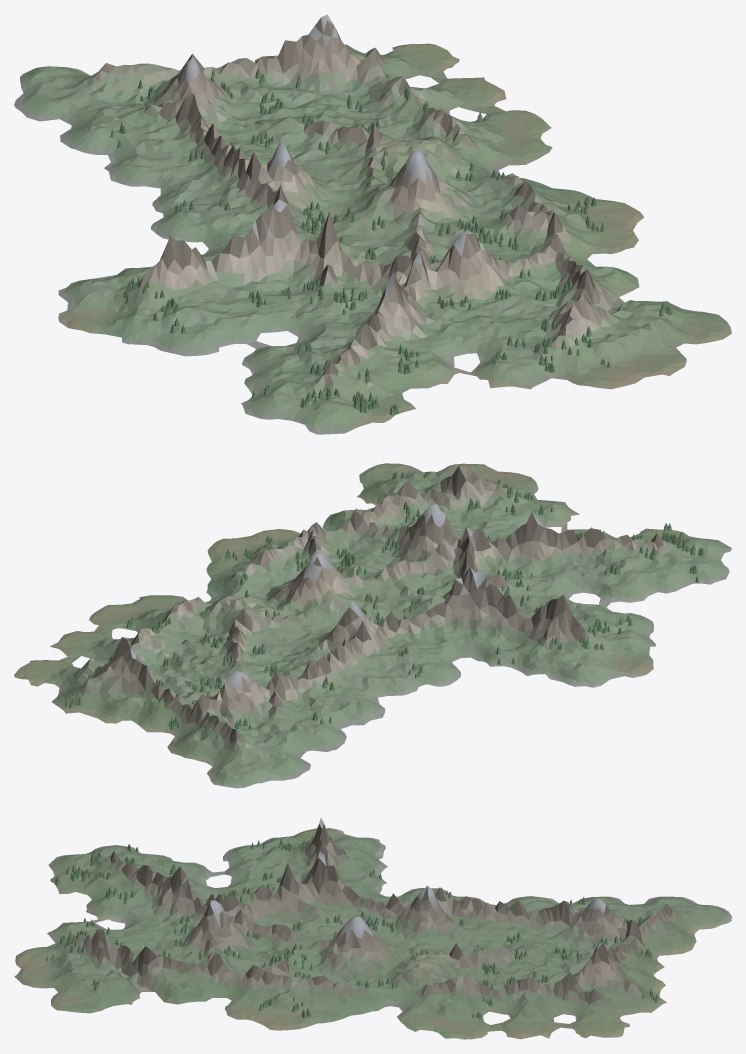
The model's file is range_qingzang_rim.glb.
3 views of the same model, one above another, from view 1: azimuth 30°, elevation 25°; view 2: azimuth 150°, elevation 25°; view 3: azimuth 270°, elevation 25° (orthographic). The views are drawn at different scales.
Parts seen in each view (by area): view 1: range_qingzang_rim, trees_qingzang_rim; view 2: range_qingzang_rim, trees_qingzang_rim; view 3: range_qingzang_rim, trees_qingzang_rim.
Part boxes in pixels (<box>): range_qingzang_rim: <box>14,14,731,434</box>; trees_qingzang_rim: <box>110,68,672,415</box>; range_qingzang_rim: <box>14,463,731,788</box>; trees_qingzang_rim: <box>65,471,704,729</box>; range_qingzang_rim: <box>14,818,731,1039</box>; trees_qingzang_rim: <box>46,835,658,1019</box>.
Size of the model in its own units: 389 by 47.91 by 558.
